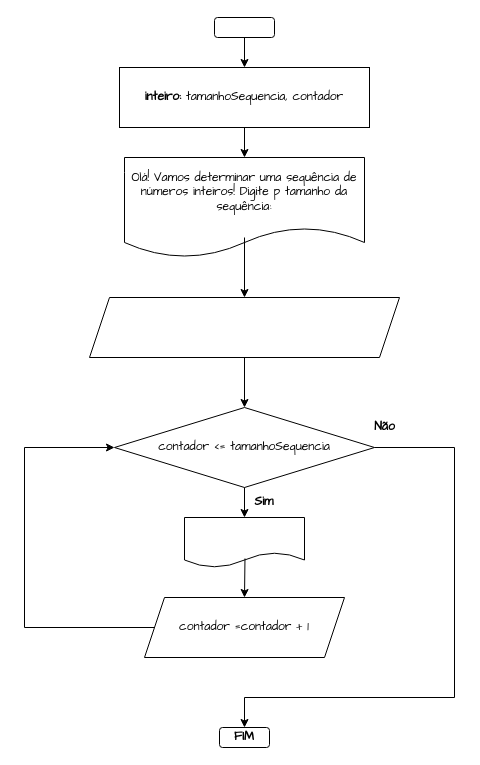
The diagram is 480 pixels wide and 765 high, and some of its shapes have lost their labels. The shapes that lost their labels are listed below. From the top down, each one's centre as x and y in pixels, then its label:
At (244,27): "INÍCIO".
At (244,327): "tamanhoSequencia = resposta contador = 1".
At (244,542): "contador".
